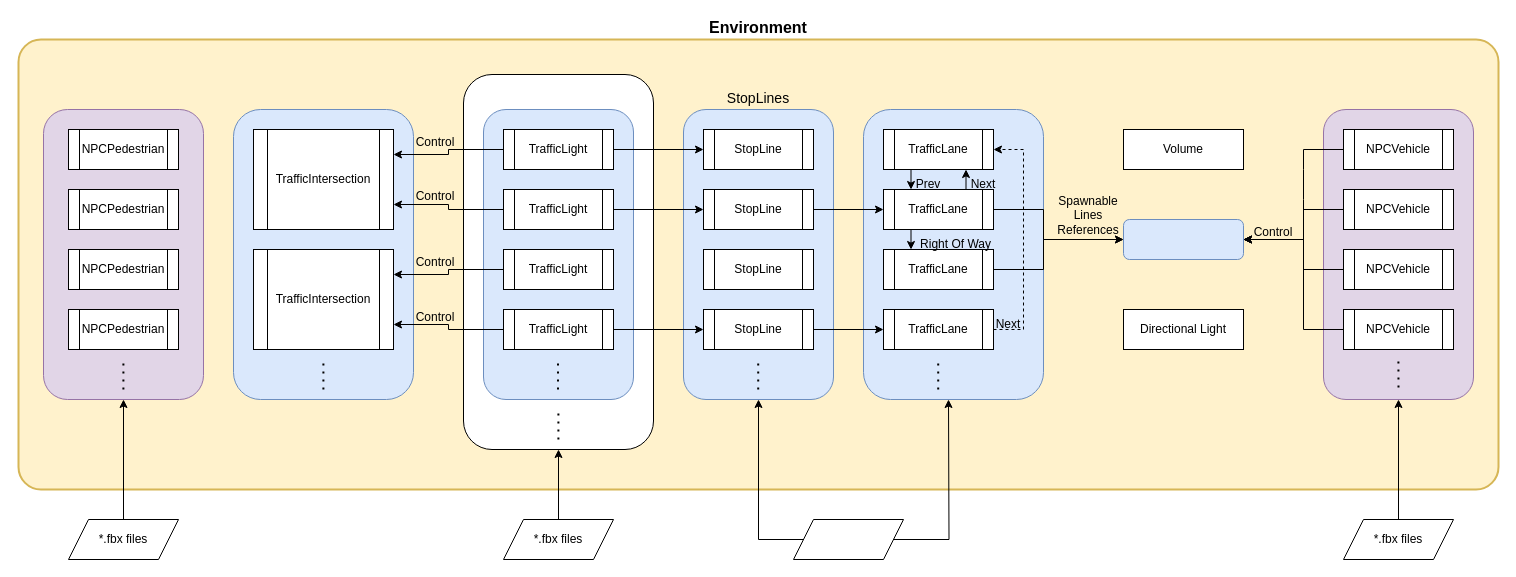
Image size: 1516x577. Some labels were removed from this diagram. The box of each missing label's shape, as (x1, y1, x2, y2) in pixels:
Lanelet2: (792, 518, 904, 560)
NPCPedestrians: (42, 108, 204, 400)
NPCVehicles: (1322, 108, 1474, 400)
TrafficIntersections: (232, 108, 414, 400)
TrafficLanes: (862, 108, 1044, 400)
TrafficLights: (482, 108, 634, 400)
TrafficSimulator: (1122, 218, 1244, 260)
Visual Elements (SJK): (462, 74, 654, 450)
